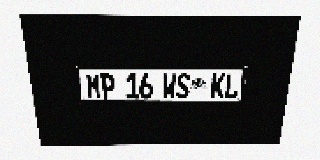1: (125, 73, 139, 99)
6: (139, 73, 153, 99)
K: (211, 73, 226, 98)
L: (224, 73, 239, 98)
M: (86, 73, 101, 99)
P: (100, 73, 115, 99)
S: (176, 73, 190, 99)
W: (162, 73, 176, 99)
